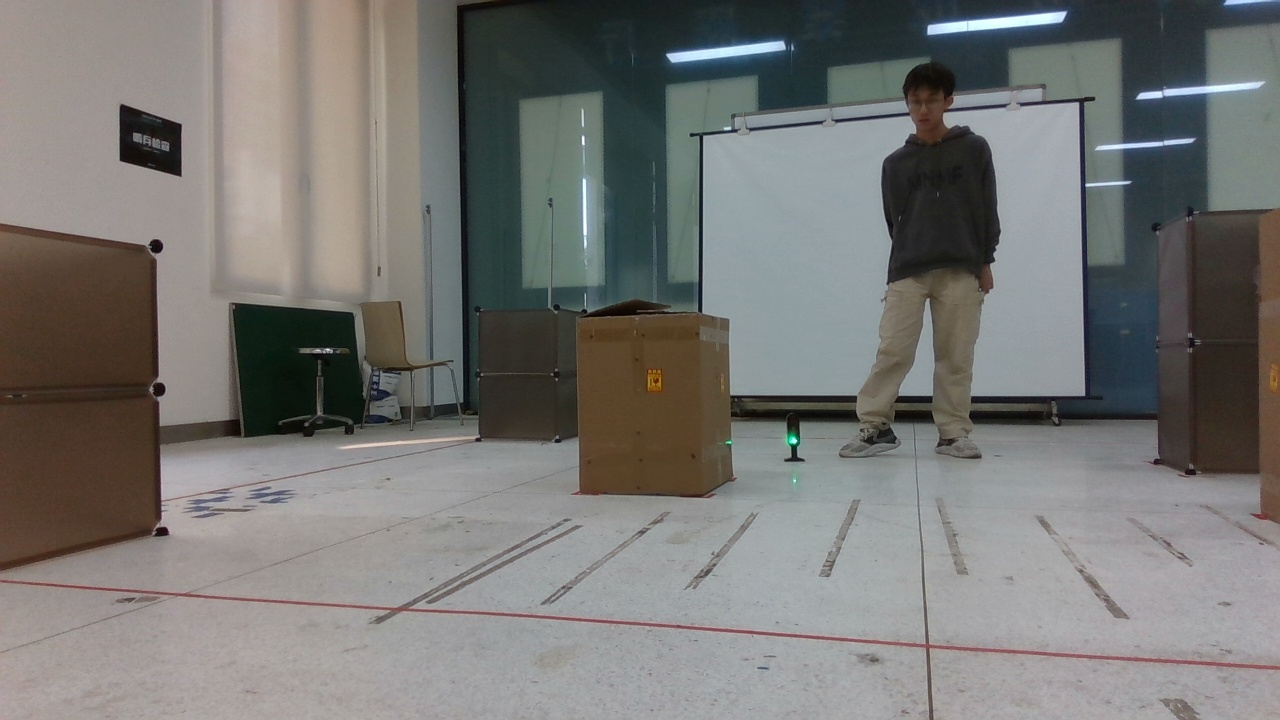green_light: (776, 411, 814, 465)
